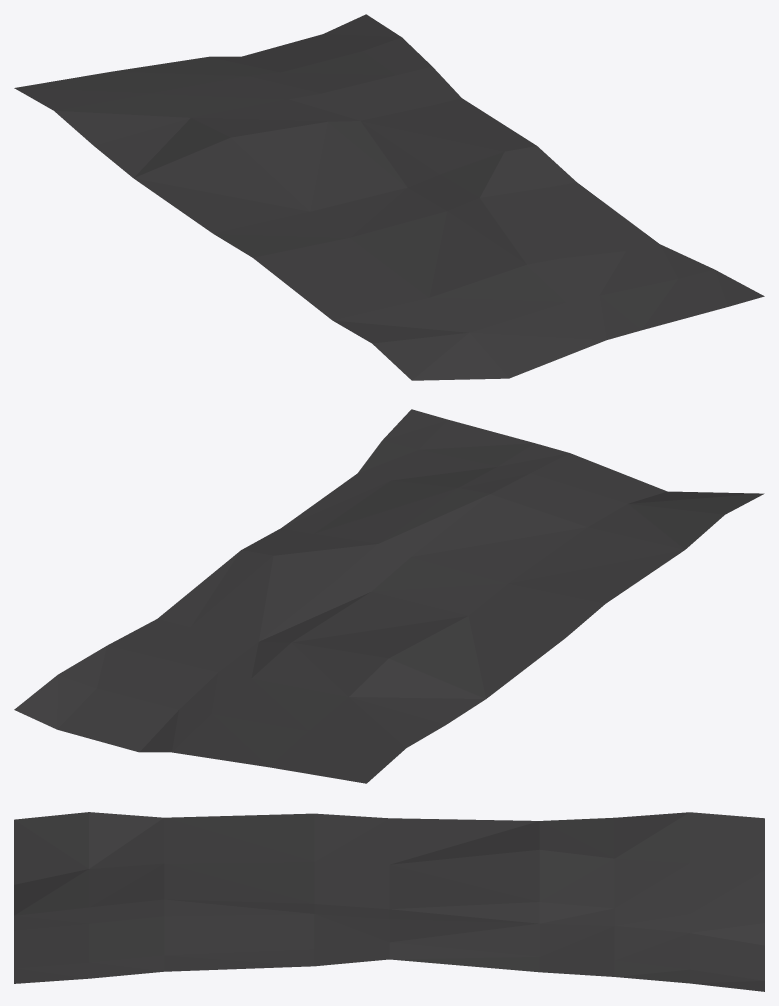
File: Cave_9C_Down_LOD_1.fbx
The picture shows the model from 3 angles, top to bottom: view 1: azimuth 30°, elevation 25°; view 2: azimuth 150°, elevation 25°; view 3: azimuth 270°, elevation 25°; orthographic projection. The views are drawn at different scales.
Visible parts, largest first — view 1: pPlane5; view 2: pPlane5; view 3: pPlane5.
Part boxes in pixels (x1,y1,x2,y2): pPlane5: (14, 14, 764, 380); pPlane5: (14, 409, 764, 783); pPlane5: (14, 812, 764, 991).
Size of the model in its own units: 8.71 by 0.9008 by 17.
